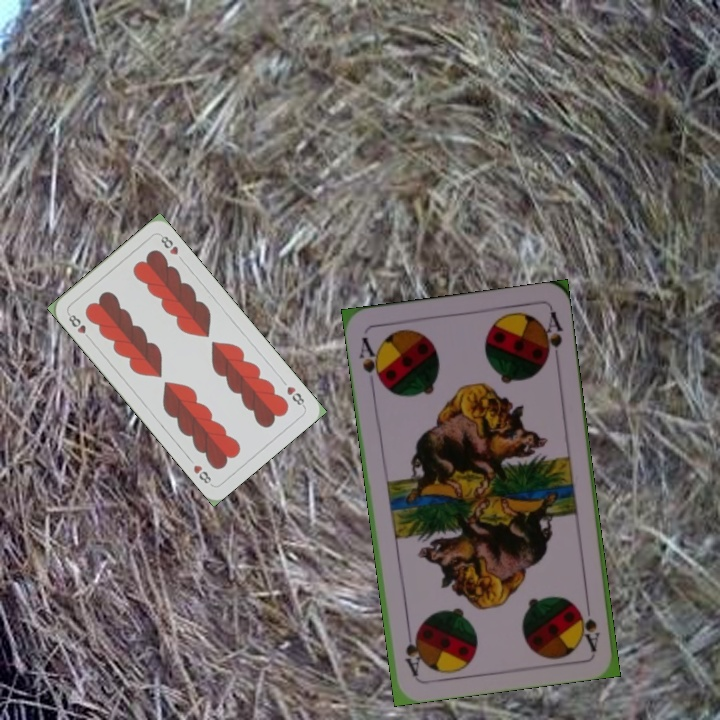H8: (64, 309, 94, 343), (283, 382, 308, 410)
SA: (355, 333, 386, 389), (576, 594, 603, 653)
